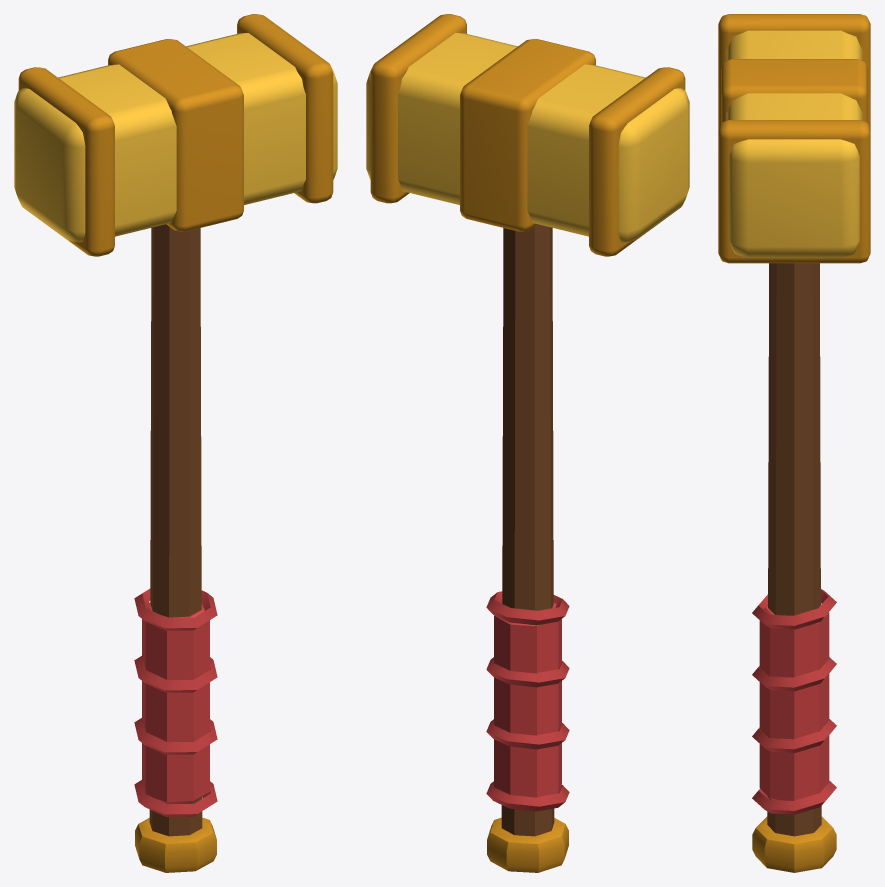
Rendered from GoldHammer.fbx.
3 views of the same model, side by side, from view 1: azimuth 30°, elevation 25°; view 2: azimuth 150°, elevation 25°; view 3: azimuth 270°, elevation 25° (orthographic).
Visible parts, largest first — view 1: GoldHammer; view 2: GoldHammer; view 3: GoldHammer.
Boxes of the visible parts, bbox=[...] form: GoldHammer: bbox=[14, 14, 337, 872]; GoldHammer: bbox=[366, 14, 689, 872]; GoldHammer: bbox=[718, 14, 870, 872].
Size of the model in its own units: 1.15 by 3.2 by 0.56.
Materials: 1 (1 with a texture image).
